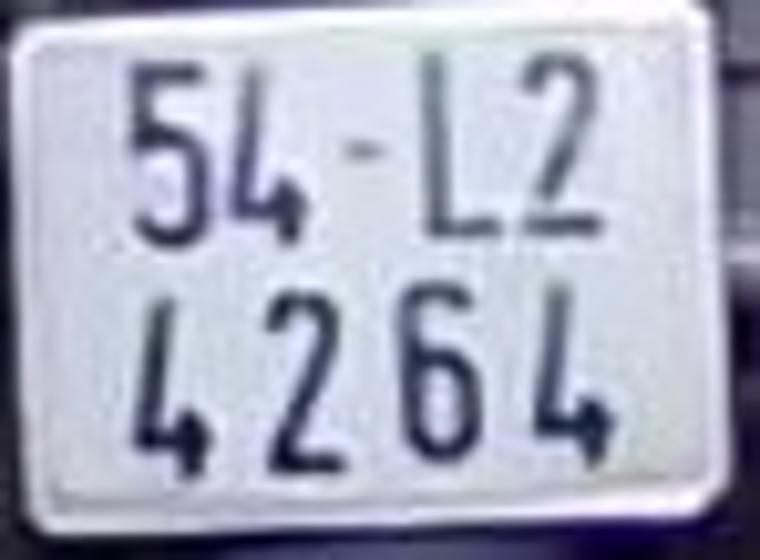-: (334, 131, 399, 180)
2: (246, 285, 353, 480), (513, 56, 612, 253)
4: (219, 51, 319, 254), (126, 282, 220, 487), (519, 275, 615, 473)
5: (121, 47, 217, 256)
6: (387, 260, 487, 473)
L: (404, 50, 510, 253)
